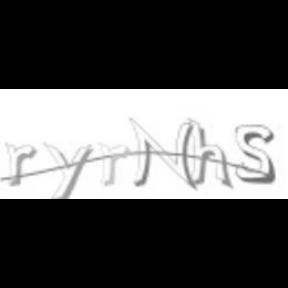N: (129, 117, 199, 191)
S: (230, 121, 278, 187)
h: (188, 116, 232, 188)
r: (96, 140, 130, 189), (3, 142, 38, 188)
y: (42, 140, 94, 200)
